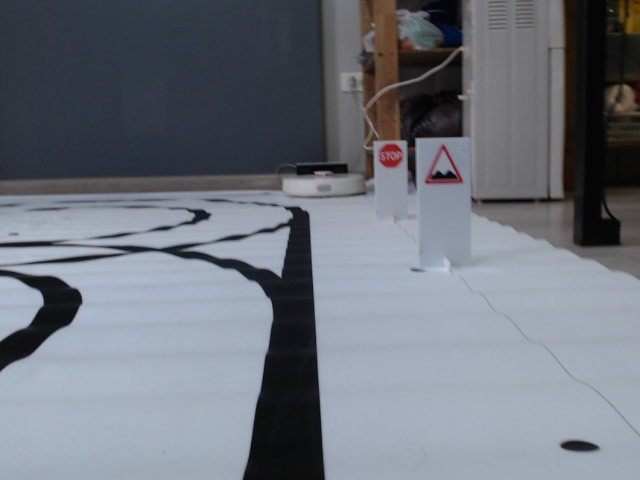Nerov: (424, 143, 465, 185)
Stop: (378, 143, 403, 170)
